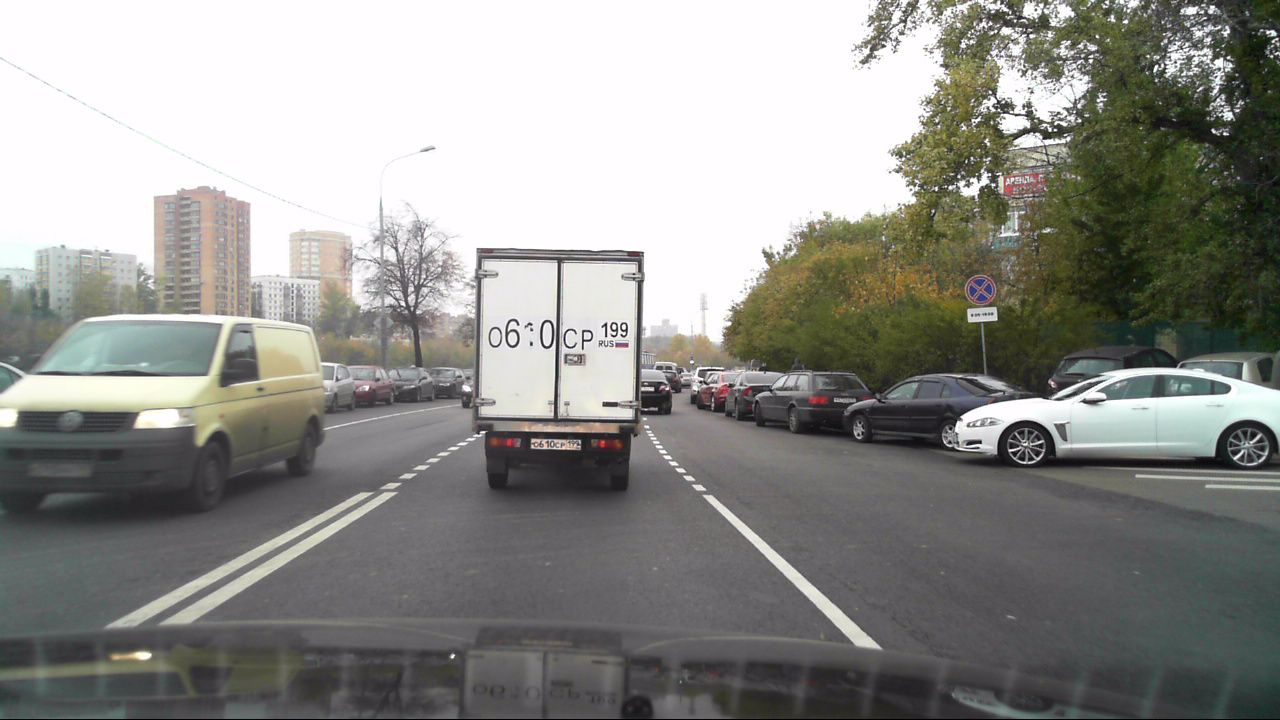No Parking: (964, 272, 997, 307)
